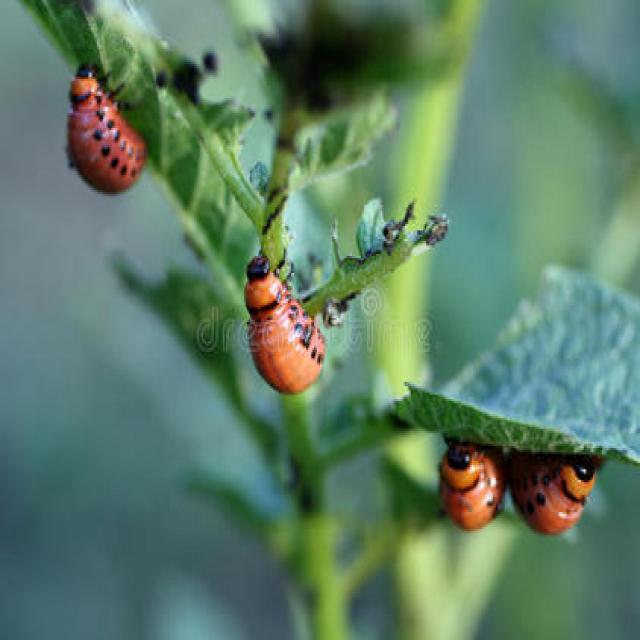ShuCaiHuaBanChong-Larva-: (239, 233, 352, 426), (51, 51, 160, 215), (526, 421, 596, 566), (434, 430, 511, 542)
